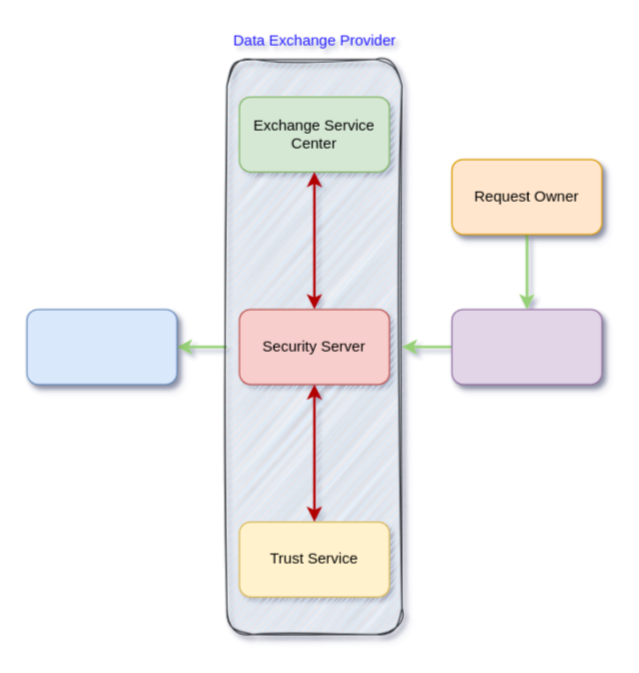
This 639x673 diagram has some shape labels left out. Here are the shapes that lost their labels. From the top down, the centre of each, then its label:
At point 102,348: "Provider".
At point 527,348: "Consumer".
